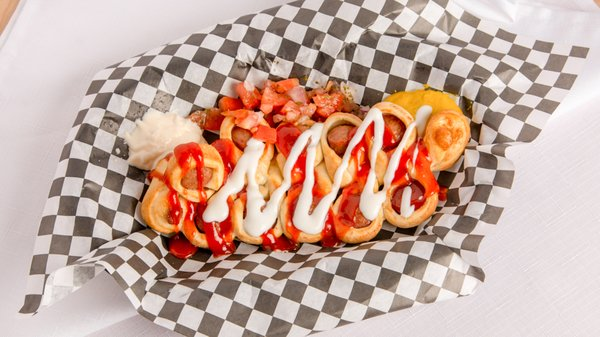burger: (128, 76, 389, 258), (321, 92, 472, 238), (273, 121, 390, 251), (369, 91, 470, 228)
